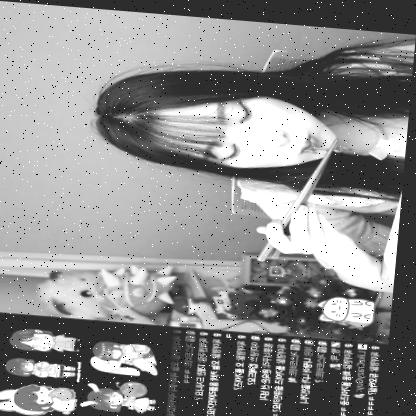streamer: (84, 10, 416, 284)
